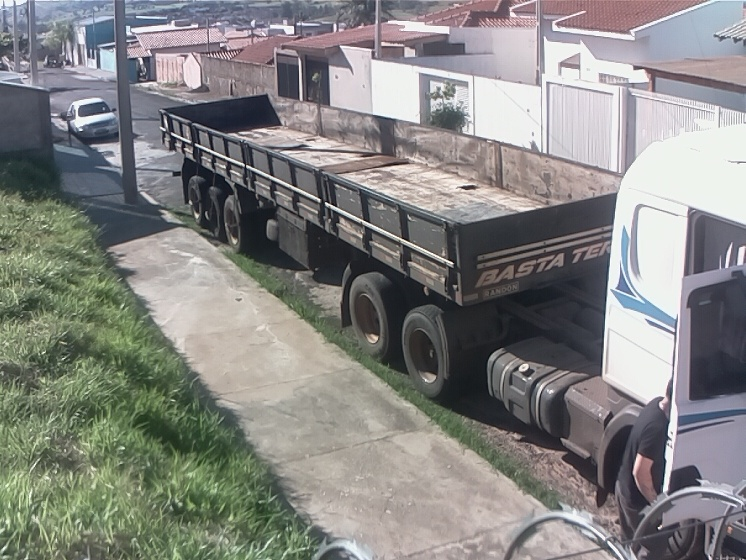person: (613, 371, 676, 560)
